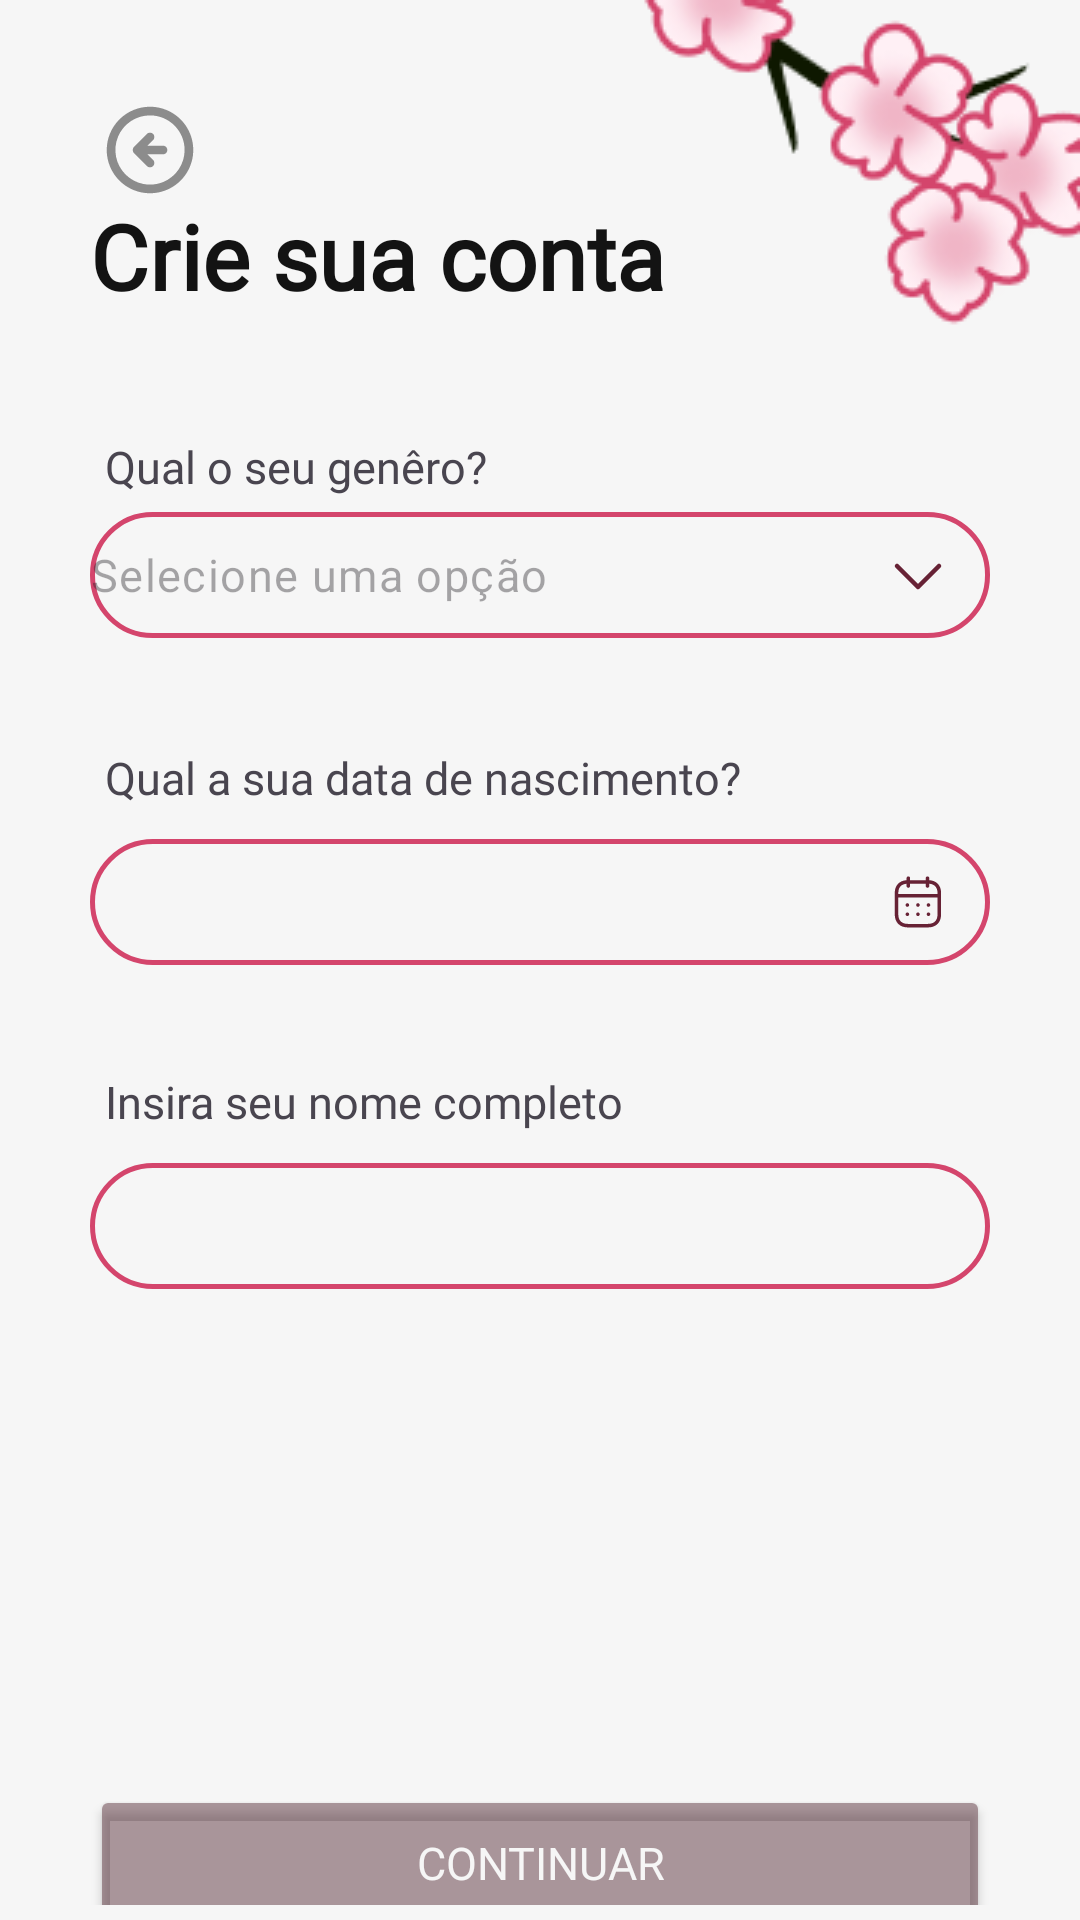

Icon click points for this 1080w x 1920h phone screenshot, format [x,y]:
arrow: [150,150]
